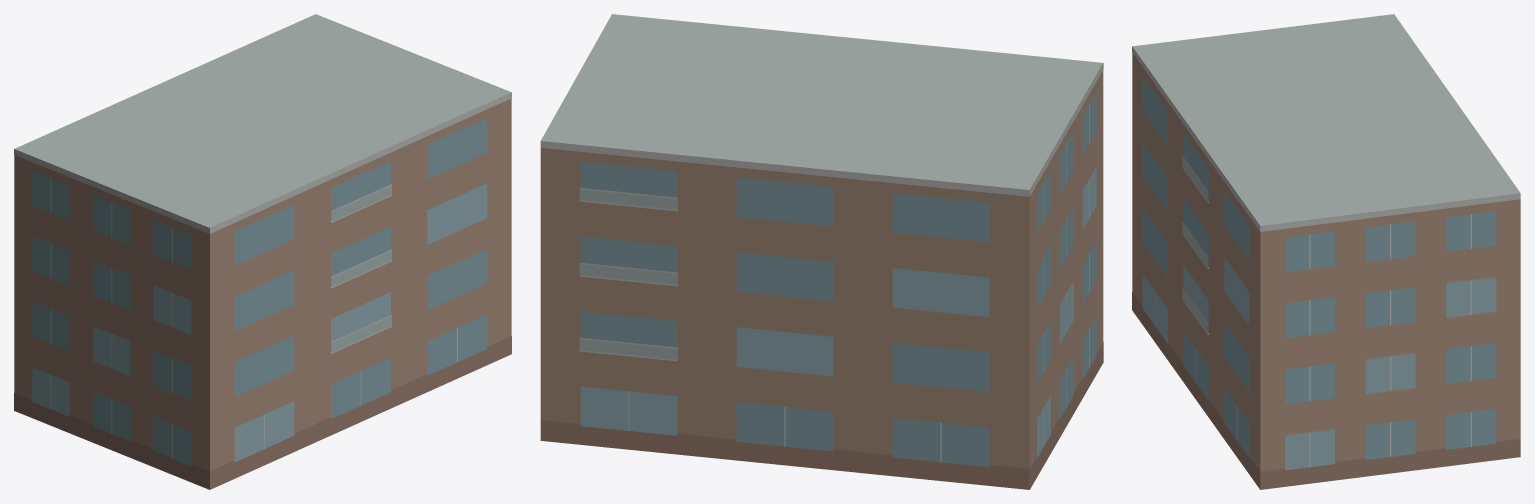
File: survey-upis-32812432.glb
3 renders of one model, left to right at view 1: azimuth 30°, elevation 25°; view 2: azimuth 150°, elevation 25°; view 3: azimuth 270°, elevation 25°, orthographic. The views are drawn at different scales.
Visible parts, largest first — view 1: survey-upis-32812432.tmp; view 2: survey-upis-32812432.tmp; view 3: survey-upis-32812432.tmp.
Part boxes in pixels (x1,y1,x2,y2): survey-upis-32812432.tmp: (14,14,511,489); survey-upis-32812432.tmp: (540,14,1103,489); survey-upis-32812432.tmp: (1132,14,1520,489).
Size of the model in its own units: 18.62 by 10.8 by 14.42.
